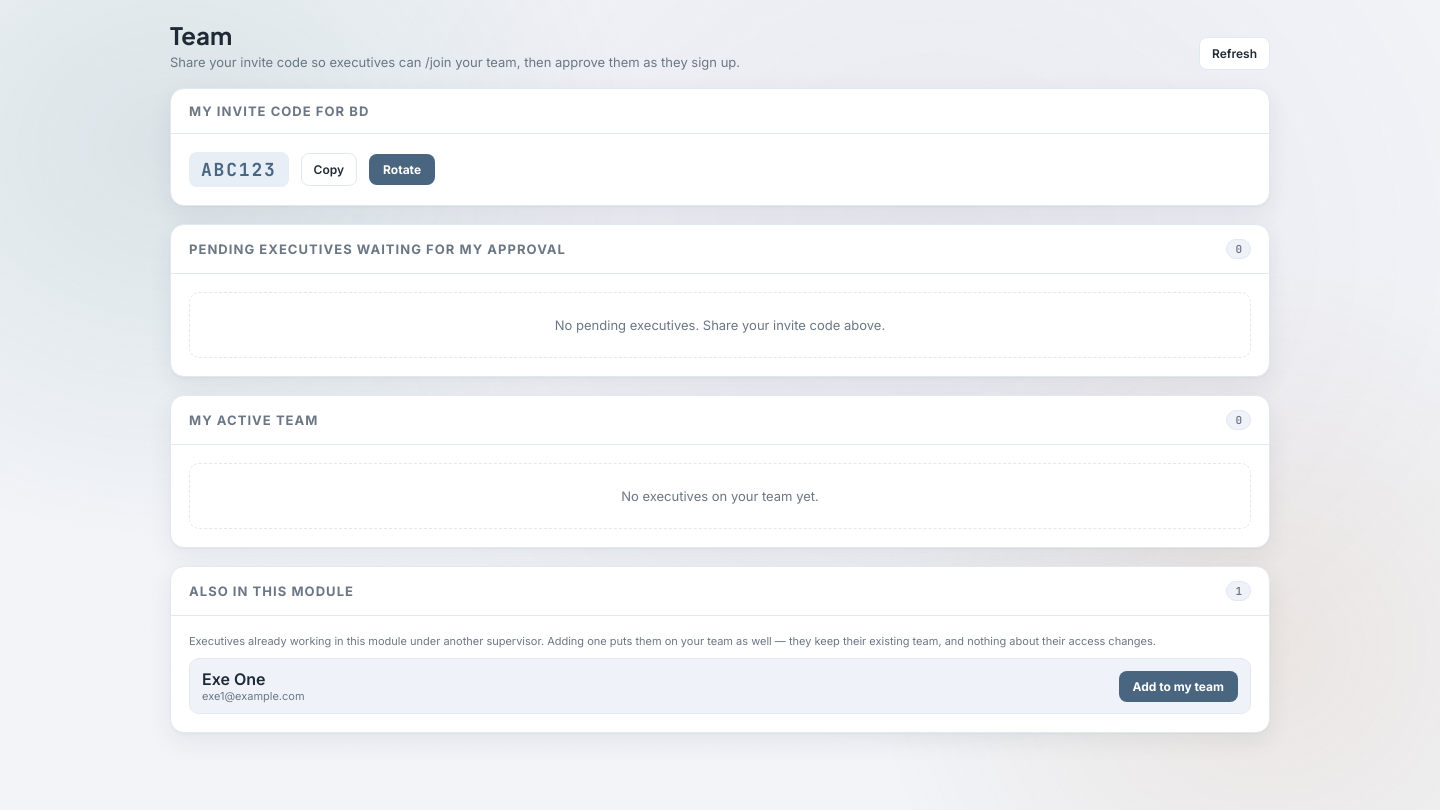
adding someone already in the module › surfaces a failure instead of silently doing nothing
Click the button "Add to my team" at [1178, 686], box [1119,670,1238,702]
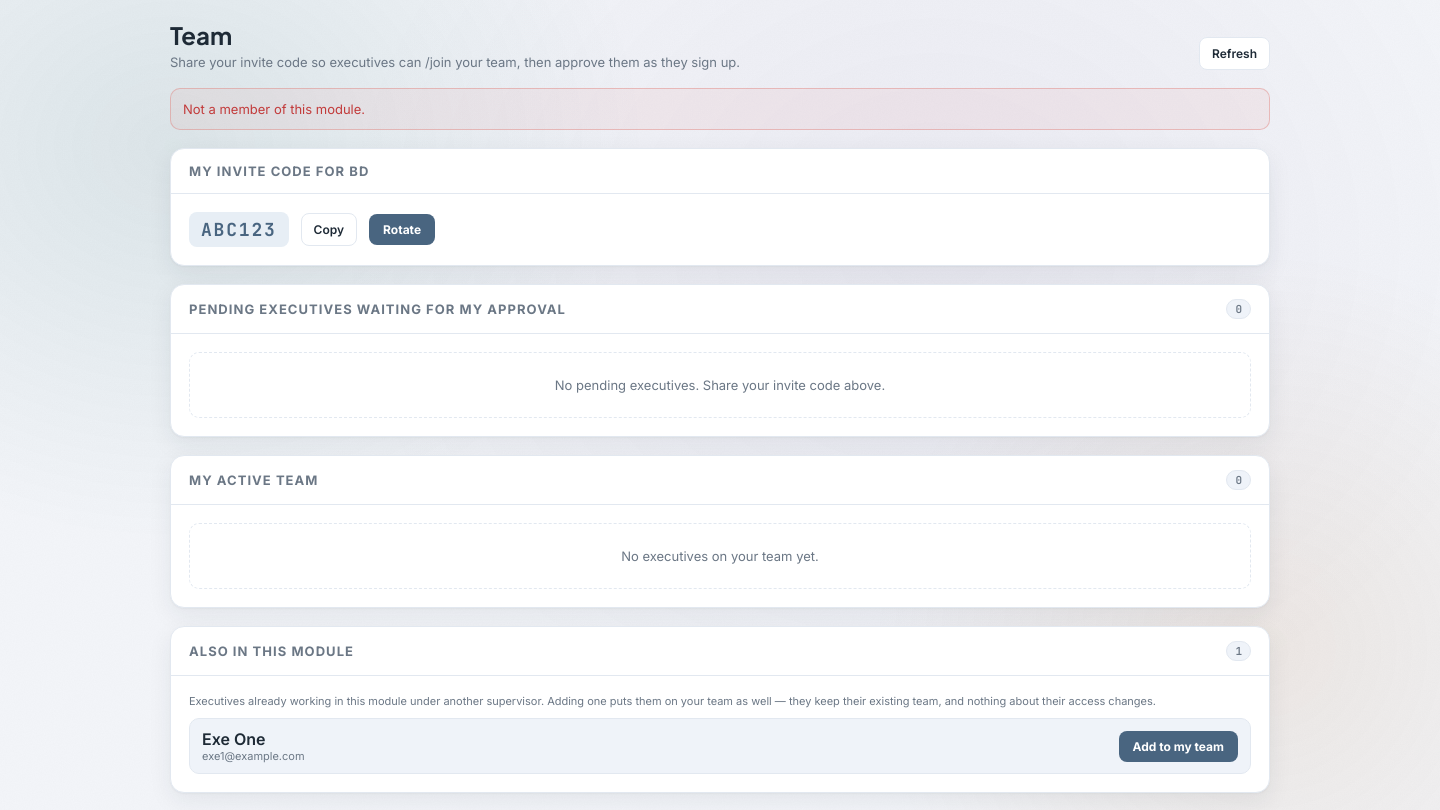
Now the text "Not a member of this module." is shown, box [170,88,1270,130]
